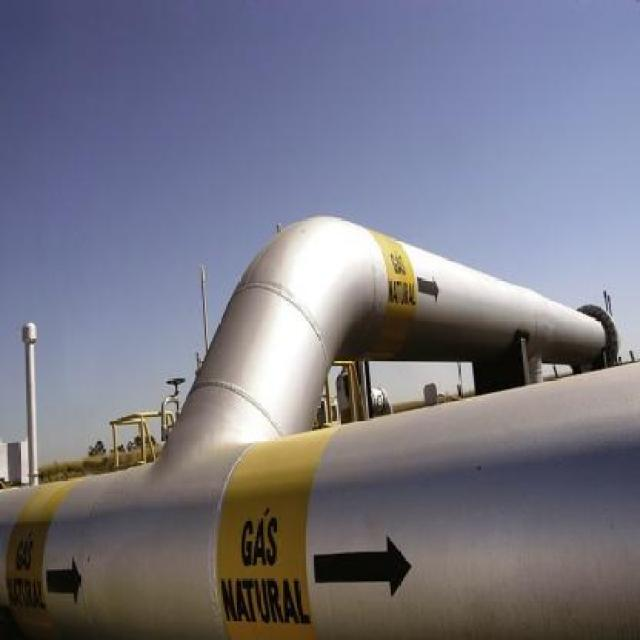gas: (3, 363, 640, 636), (160, 216, 608, 458)
